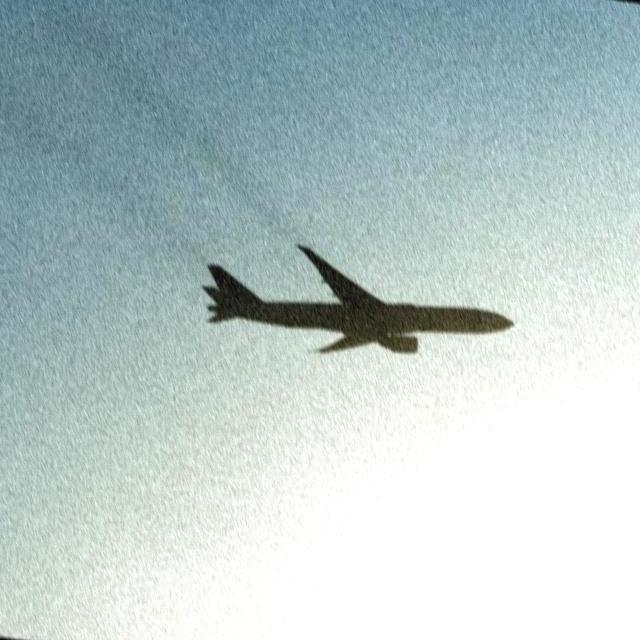airplane: (200, 239, 522, 359)
